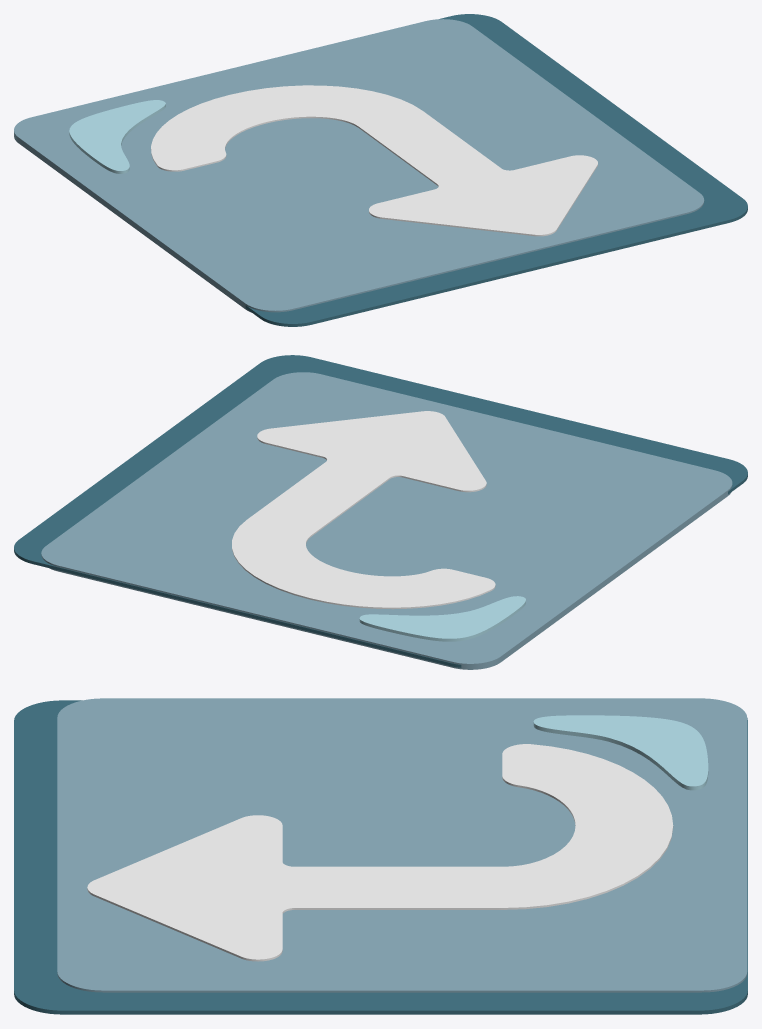
File: emoji_u2935.glb
3 views of the same model, one above another, from view 1: azimuth 30°, elevation 25°; view 2: azimuth 150°, elevation 25°; view 3: azimuth 270°, elevation 25° (orthographic). The views are drawn at different scales.
Parts seen in each view (by area): view 1: emoji_u2935; view 2: emoji_u2935; view 3: emoji_u2935.
Part boxes in pixels (x1,y1,x2,y2): emoji_u2935: [14, 14, 747, 326]; emoji_u2935: [14, 355, 747, 669]; emoji_u2935: [14, 698, 747, 1014].
Size of the model in its own units: 0.0339 by 0.0008 by 0.0339.
